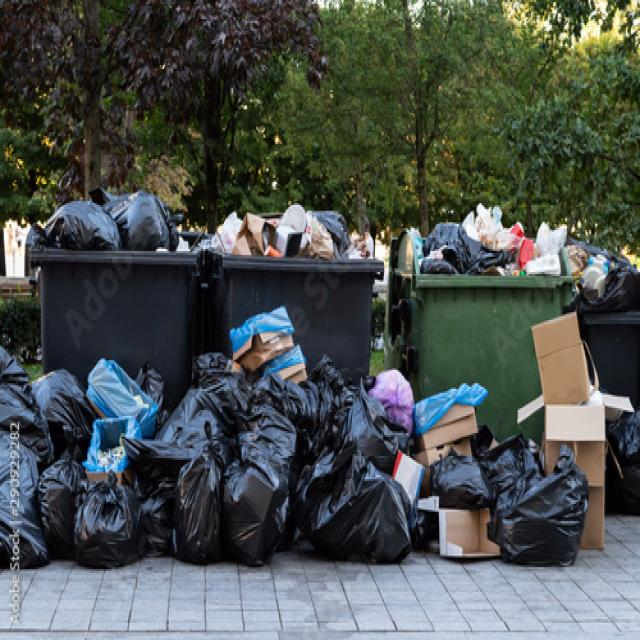cardboard: (529, 322, 609, 467), (436, 506, 496, 561), (424, 402, 475, 450), (241, 216, 274, 255)
metal: (394, 224, 422, 274)
plastic: (438, 207, 610, 287), (94, 352, 142, 463), (286, 224, 302, 259)
trash: (200, 364, 394, 550), (3, 339, 87, 546), (42, 196, 173, 249), (308, 214, 349, 254)
